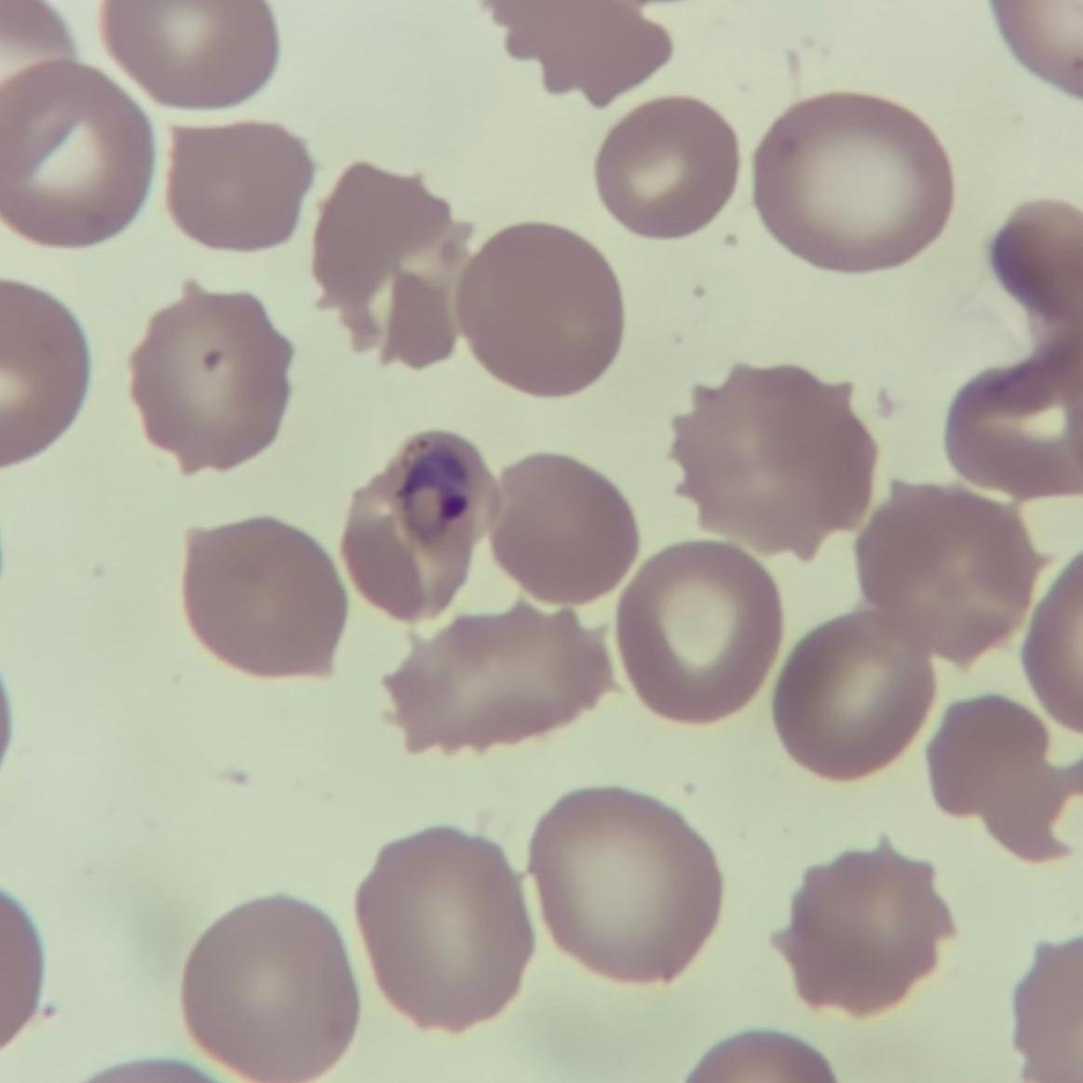Infected: (369, 426, 513, 561)
Uninfected: (674, 349, 882, 565), (751, 91, 958, 280), (354, 817, 532, 1027), (844, 479, 1033, 667), (528, 793, 714, 984), (391, 613, 625, 758), (323, 159, 482, 365), (127, 280, 298, 468), (0, 60, 159, 257), (453, 218, 627, 398), (782, 836, 956, 1013), (189, 898, 352, 1083), (621, 544, 782, 731), (177, 513, 346, 681), (770, 609, 929, 779), (494, 451, 639, 613), (602, 94, 739, 247), (158, 119, 317, 245), (341, 476, 468, 621)
